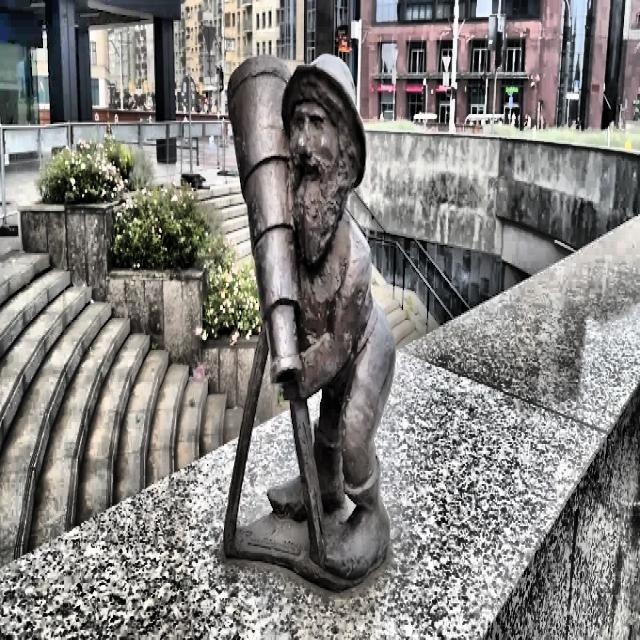Lunetyk: (224, 55, 395, 595)
